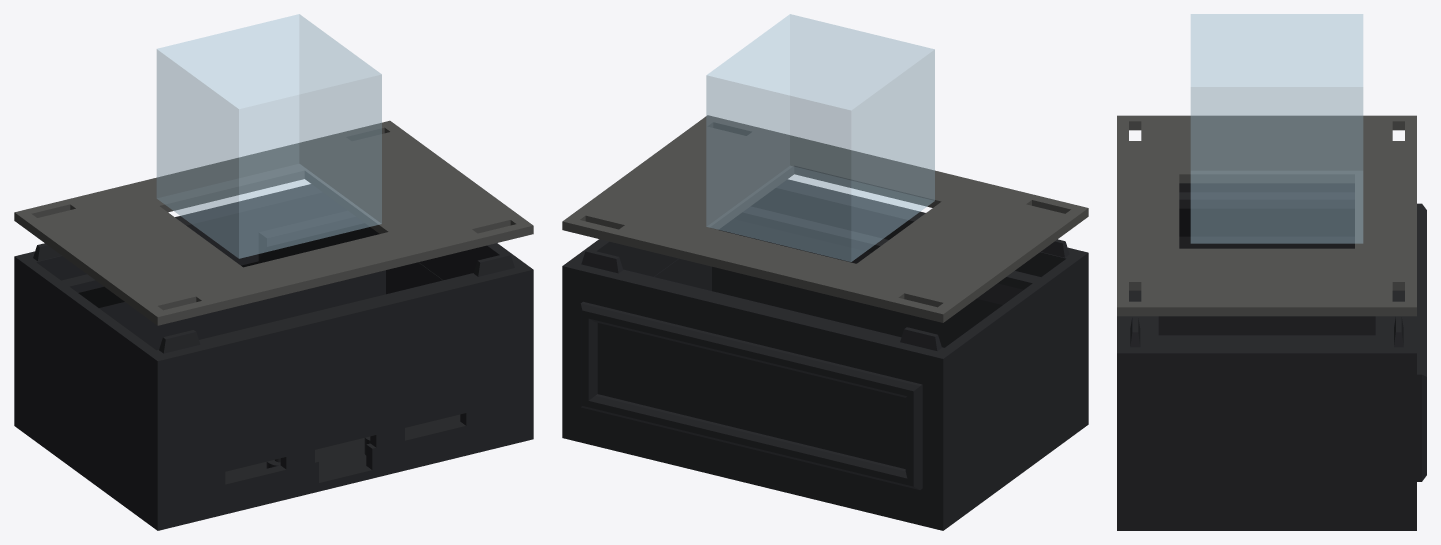
Rendered from ghost-enclosure.glb.
The picture shows the model from 3 angles, left to right: view 1: azimuth 30°, elevation 25°; view 2: azimuth 150°, elevation 25°; view 3: azimuth 270°, elevation 25°; orthographic projection. The views are drawn at different scales.
Visible parts, largest first — view 1: Enclosure body, Lifted lid / bezel, 35mm beamsplitter cube; view 2: Enclosure body, Lifted lid / bezel, 35mm beamsplitter cube; view 3: Enclosure body, Lifted lid / bezel, 35mm beamsplitter cube.
Part boxes in pixels (<box>): Enclosure body: <box>14,184,533,530</box>; Lifted lid / bezel: <box>14,120,533,325</box>; 35mm beamsplitter cube: <box>156,14,381,258</box>; Enclosure body: <box>562,179,1088,530</box>; Lifted lid / bezel: <box>562,115,1088,322</box>; 35mm beamsplitter cube: <box>706,14,934,261</box>; Enclosure body: <box>1117,183,1426,530</box>; Lifted lid / bezel: <box>1117,115,1416,316</box>; 35mm beamsplitter cube: <box>1190,14,1363,243</box>.
Size of the model in its own units: 92 by 86 by 62.8.
